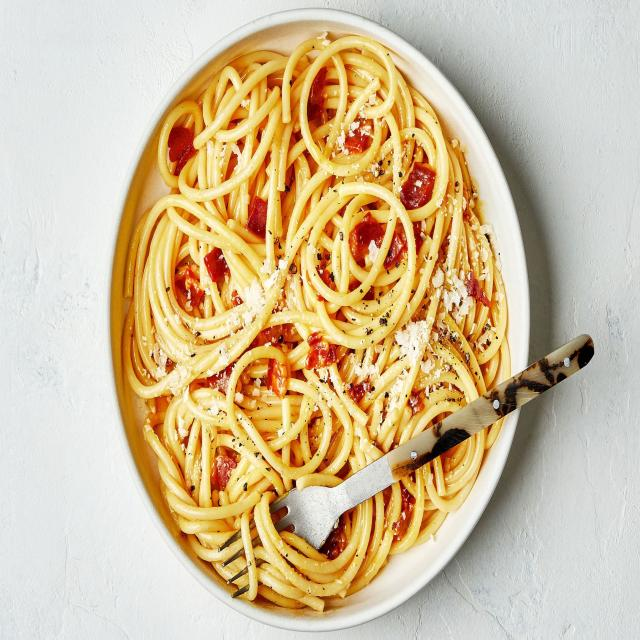pasta: (112, 19, 520, 616)
